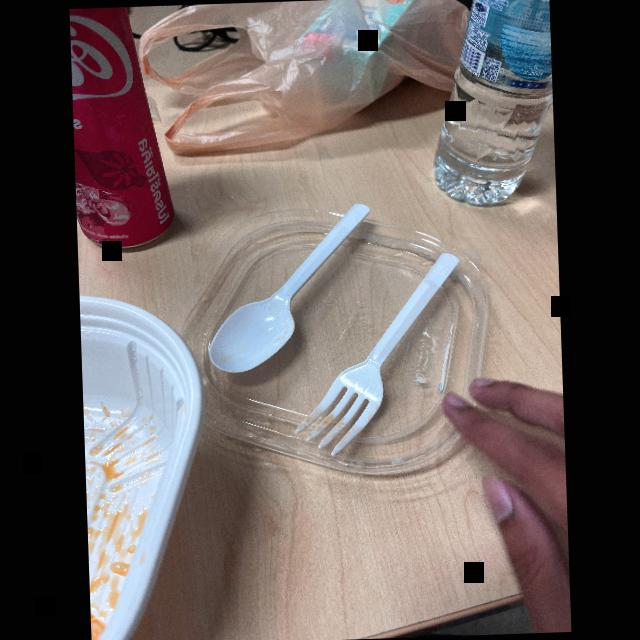plastic_spoon: (286, 248, 474, 457), (195, 195, 381, 377)
